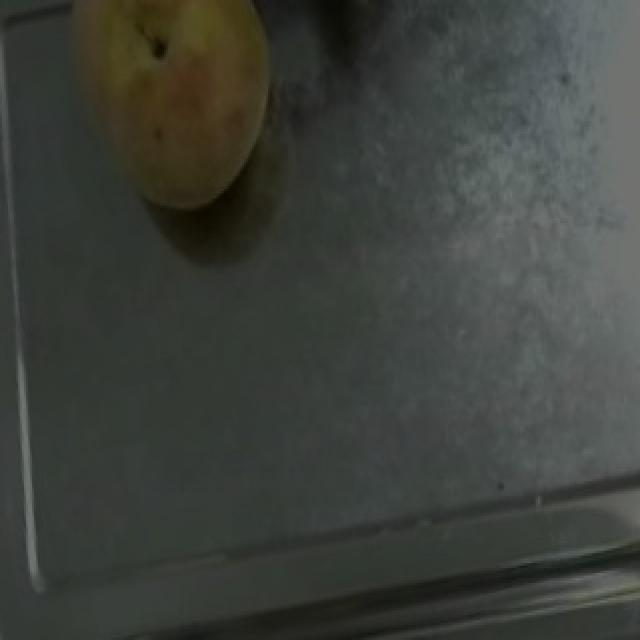Fruit: (32, 0, 290, 228)
